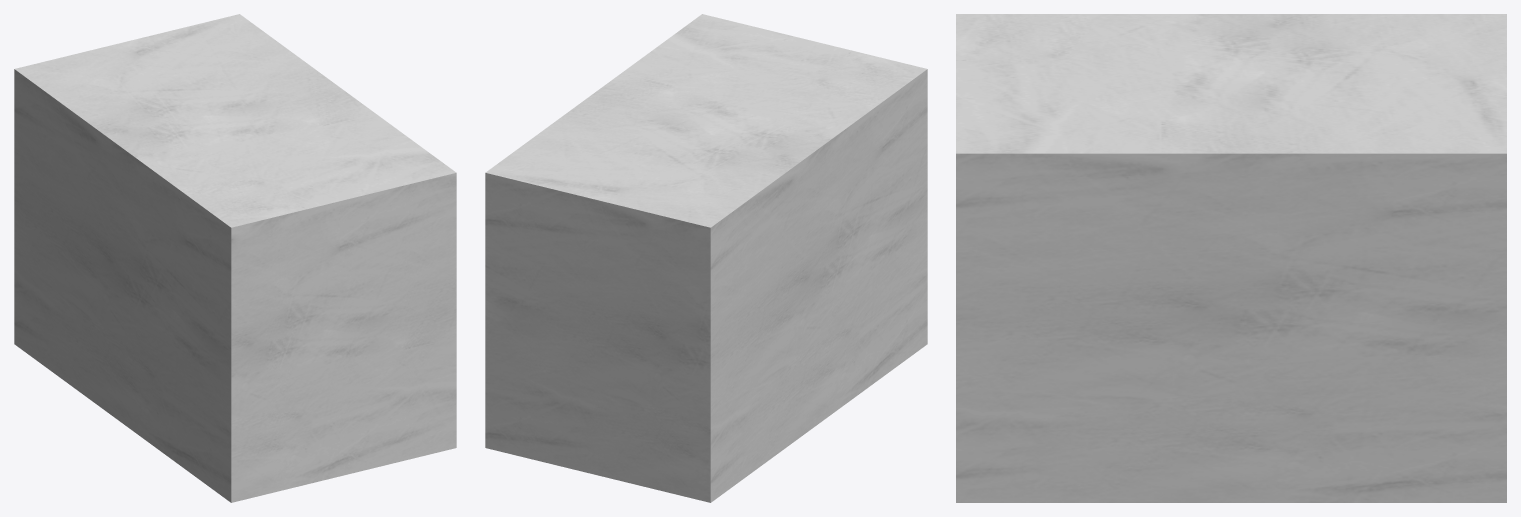
File: Caja-Carton.FBX
The picture shows the model from 3 angles, left to right: view 1: azimuth 30°, elevation 25°; view 2: azimuth 150°, elevation 25°; view 3: azimuth 270°, elevation 25°; orthographic projection. The views are drawn at different scales.
Parts seen in each view (by area): view 1: Caja-Carton; view 2: Caja-Carton; view 3: Caja-Carton.
Part boxes in pixels (left/top/right/bottom): Caja-Carton: left=14, top=14, right=456, bottom=502; Caja-Carton: left=485, top=14, right=927, bottom=502; Caja-Carton: left=956, top=14, right=1506, bottom=502.
Bounding box in the file's own units: 60 × 100 × 70.
